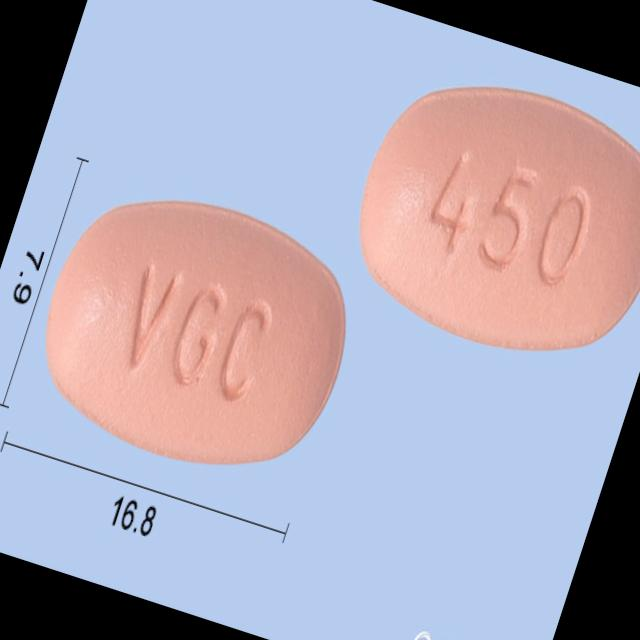Valcyte Tab: (14, 162, 378, 502), (329, 47, 640, 388)
